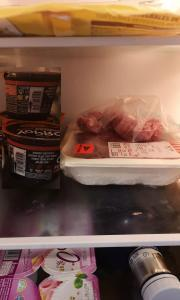Yogur: (2, 118, 60, 189), (0, 67, 61, 119)
